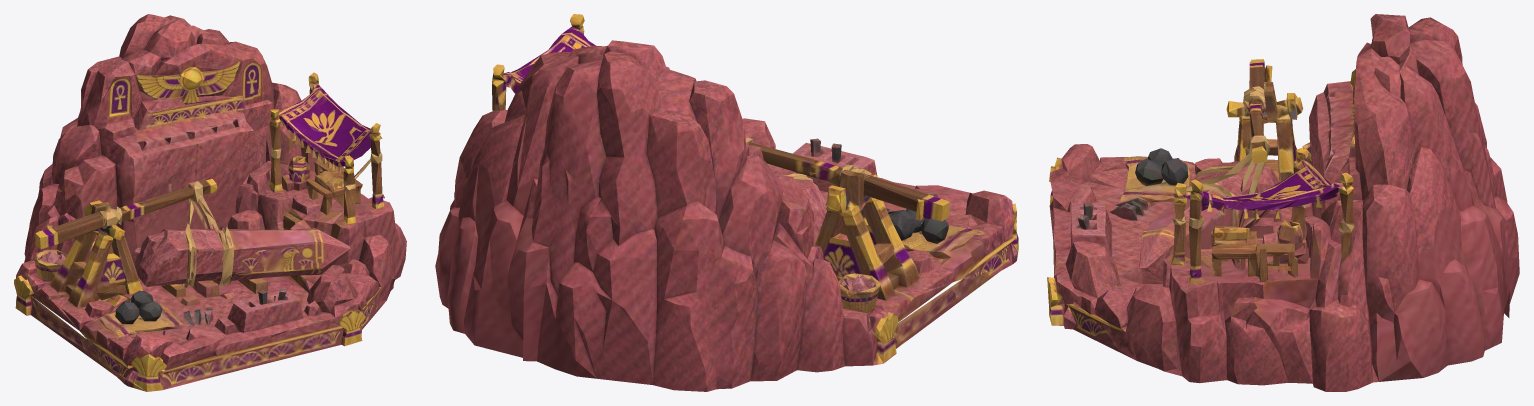
File: granite.glb
3 views of the same model, side by side, from view 1: azimuth 30°, elevation 25°; view 2: azimuth 150°, elevation 25°; view 3: azimuth 270°, elevation 25° (orthographic). The views are drawn at different scales.
Size of the model in its own units: 1.9 by 1.16 by 1.81.
Materials: 1 (1 with a texture image).
